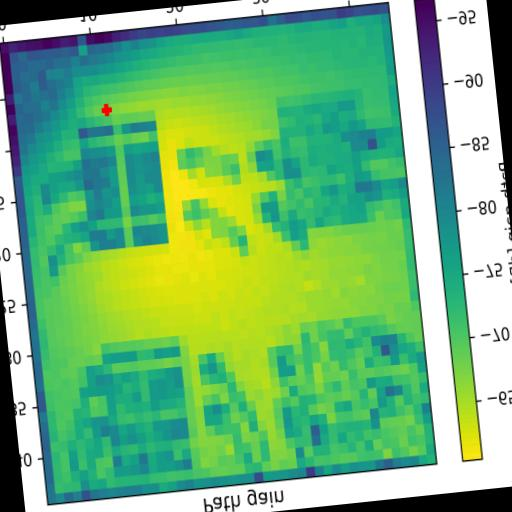Concrete: (299, 314, 400, 457)
Glass: (101, 336, 192, 477)
Metal: (277, 88, 377, 230)
Wood: (78, 120, 169, 252)
